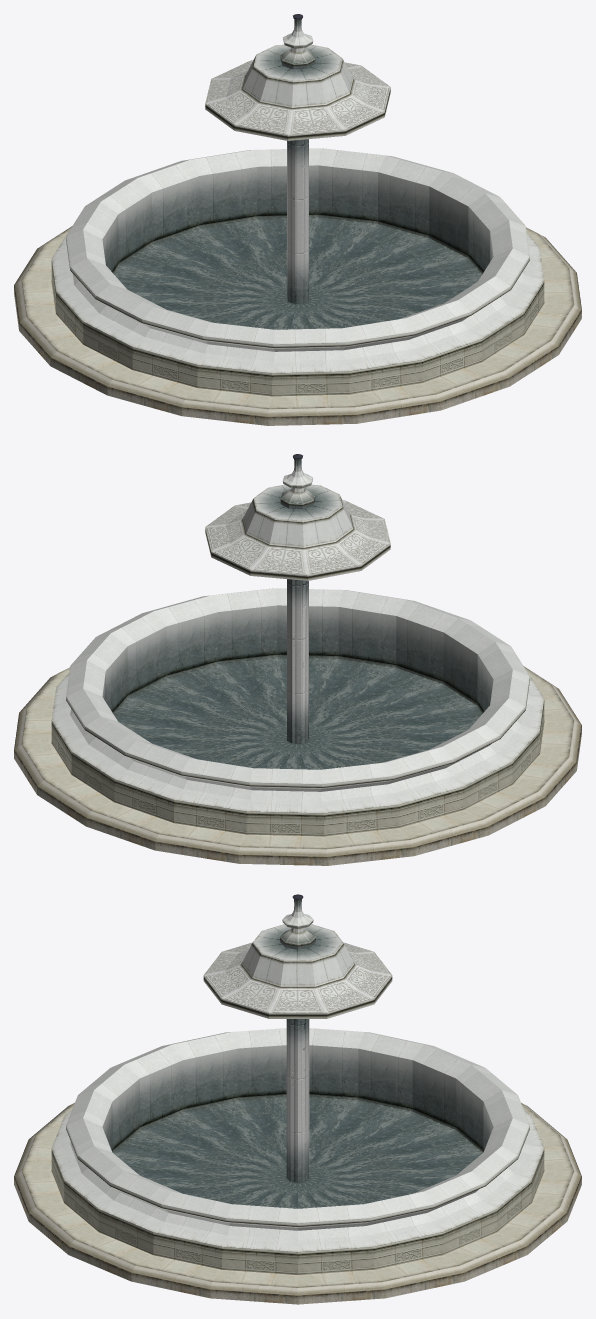
File: 喷泉简单.obj
The picture shows the model from 3 angles, top to bottom: view 1: azimuth 30°, elevation 25°; view 2: azimuth 150°, elevation 25°; view 3: azimuth 270°, elevation 25°; orthographic projection.
Visible parts, largest first — view 1: polySurface28; view 2: polySurface28; view 3: polySurface28.
Part boxes in pixels (x1,y1,x2,y2): polySurface28: (14,14,581,425); polySurface28: (14,454,581,865); polySurface28: (14,894,581,1304).
Size of the model in its own units: 16.57 by 9.3 by 16.57.
